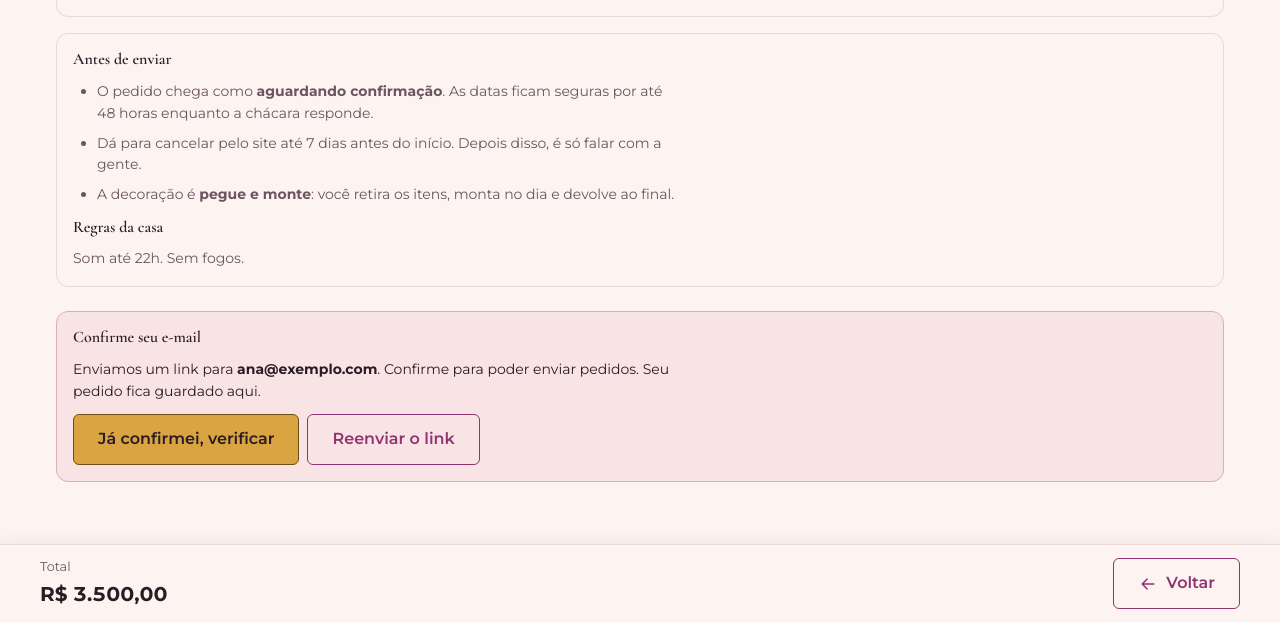
Test case: SubmitGate › insiste quando o e-mail continua sem confirmação
(page scrolled)
Click the button "Já confirmei, verificar": [186, 440] box [73,414,300,465]
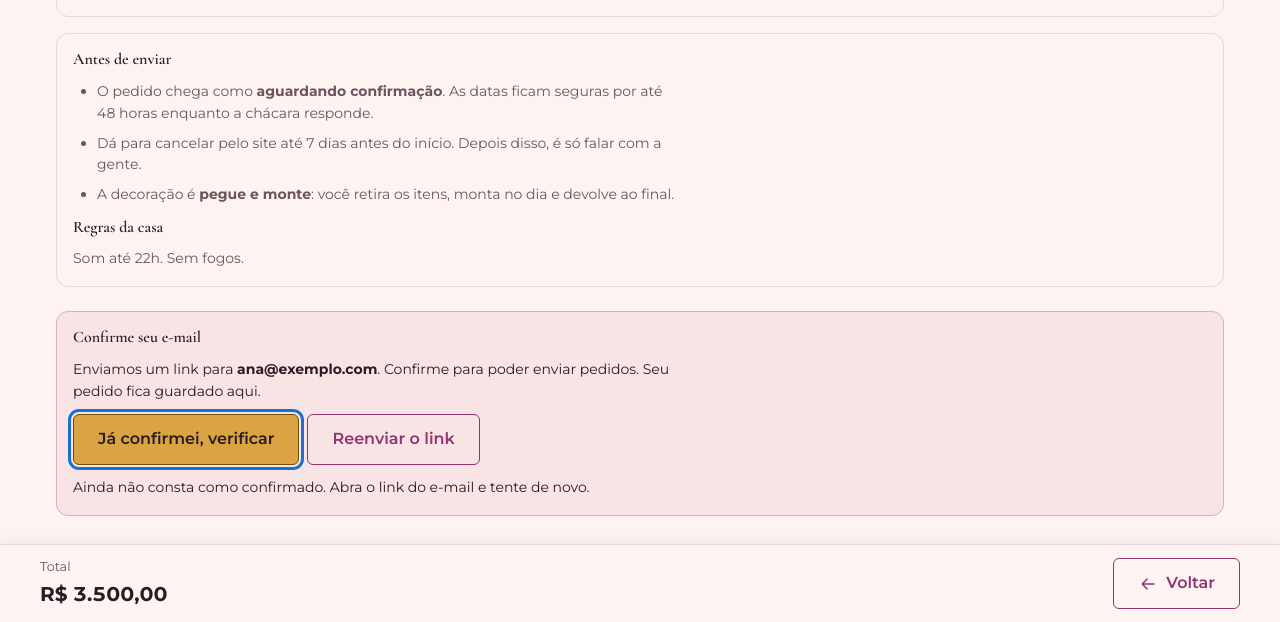
Expected: the text "Ainda não consta como confirmado. Abra o link do e-mail e tente de novo." is shown, [73,477,590,499]
